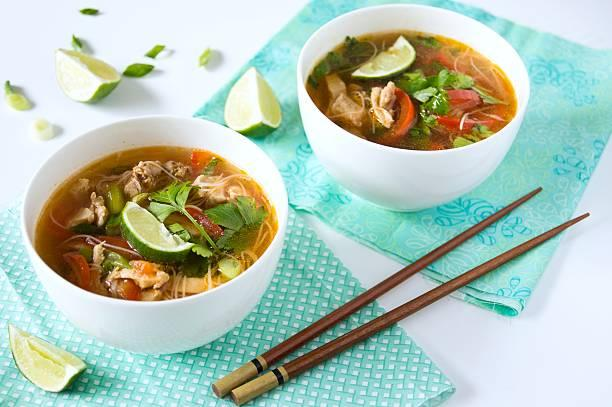Braised Crucian Carp: (21, 116, 287, 356), (298, 2, 528, 210)
